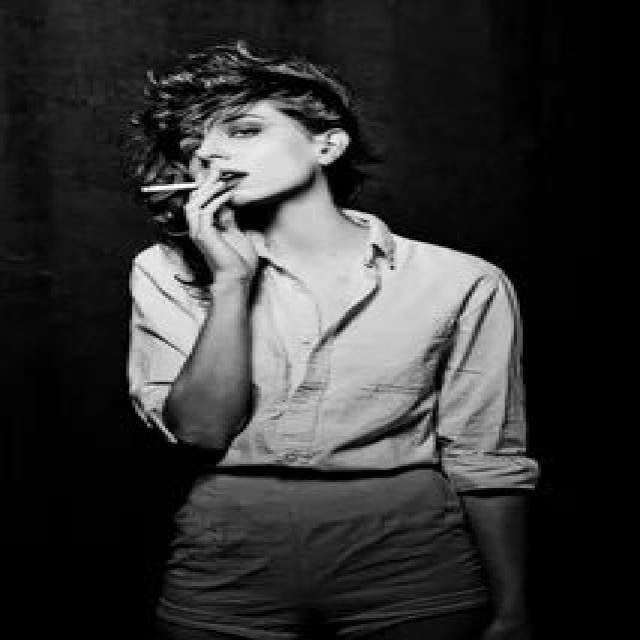smoke: (138, 170, 232, 198)
